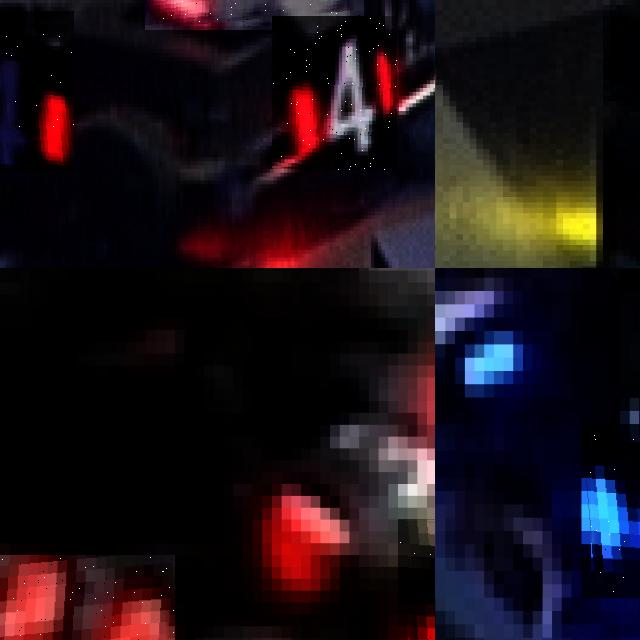B4: (581, 424, 640, 597)
R3: (0, 555, 175, 640)
R4: (272, 16, 397, 170), (0, 11, 73, 173)
